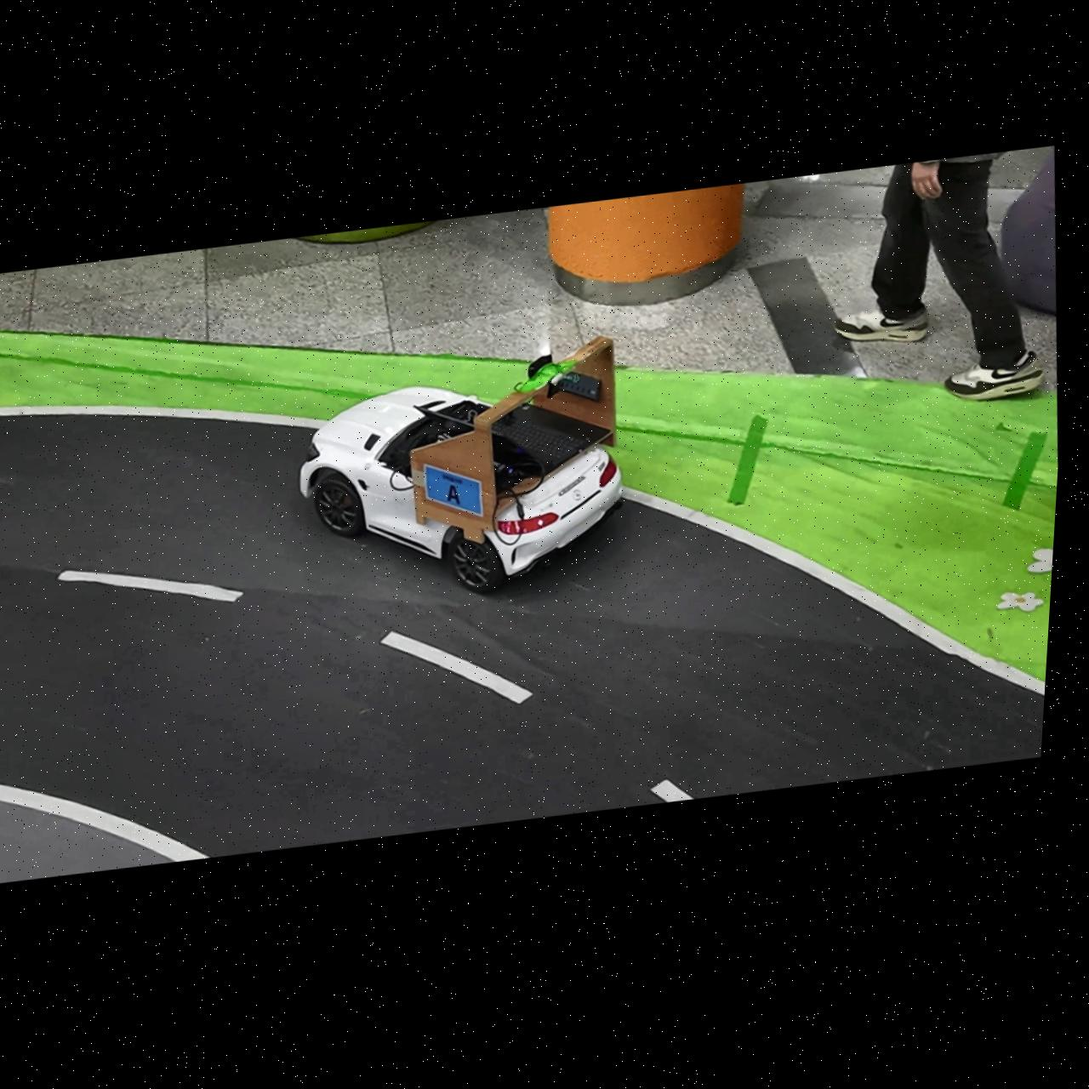broken_line: (381, 632, 532, 703), (58, 570, 242, 601), (651, 780, 693, 802)
